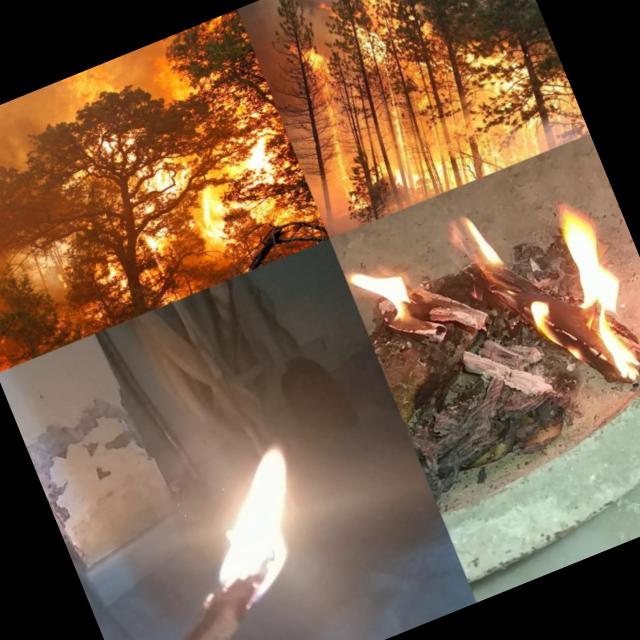fire: (430, 162, 640, 441), (366, 32, 590, 207), (173, 430, 343, 616), (276, 31, 382, 212), (144, 123, 251, 263), (337, 232, 432, 350), (323, 0, 397, 83), (146, 34, 218, 112), (128, 232, 200, 310), (59, 62, 125, 126)
smoke: (0, 211, 76, 344), (0, 97, 56, 208), (254, 45, 308, 135), (288, 126, 342, 212), (237, 0, 294, 54), (26, 80, 74, 132), (287, 0, 349, 14)
